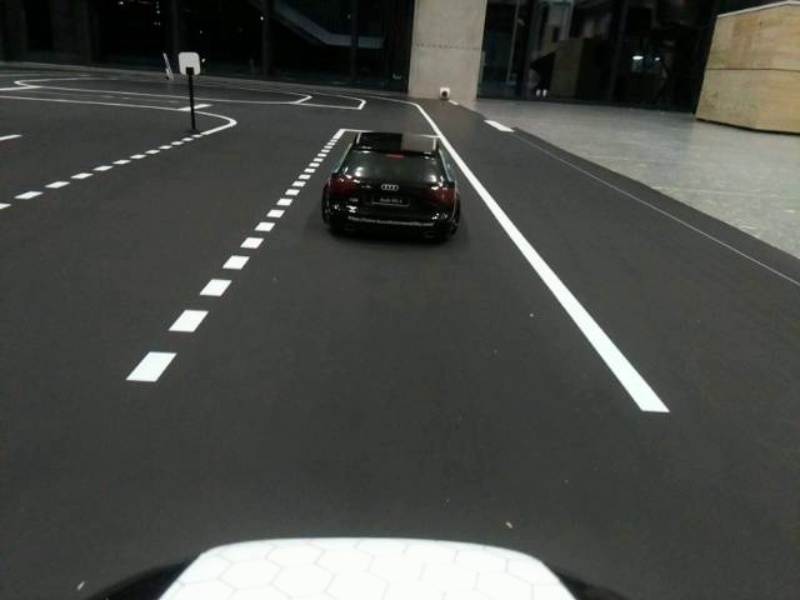car: (320, 125, 475, 257)
